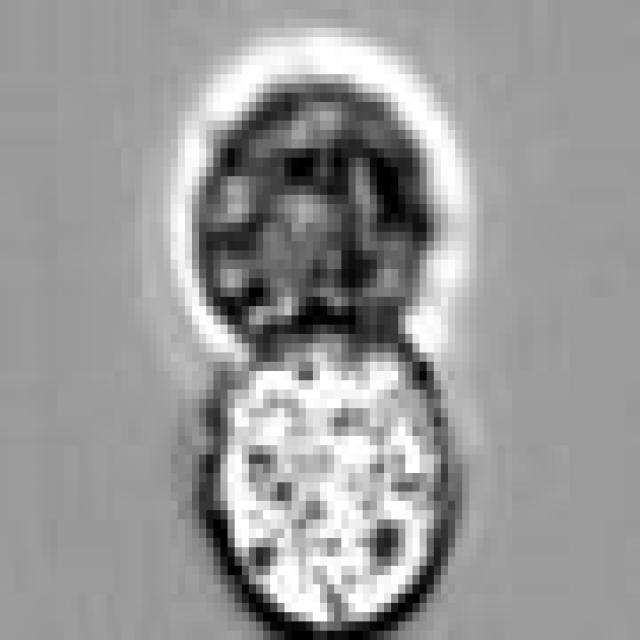Cancer Cell: (213, 306, 462, 631)
WBC: (192, 74, 434, 353)
